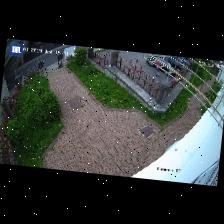person: (155, 62, 160, 76)
